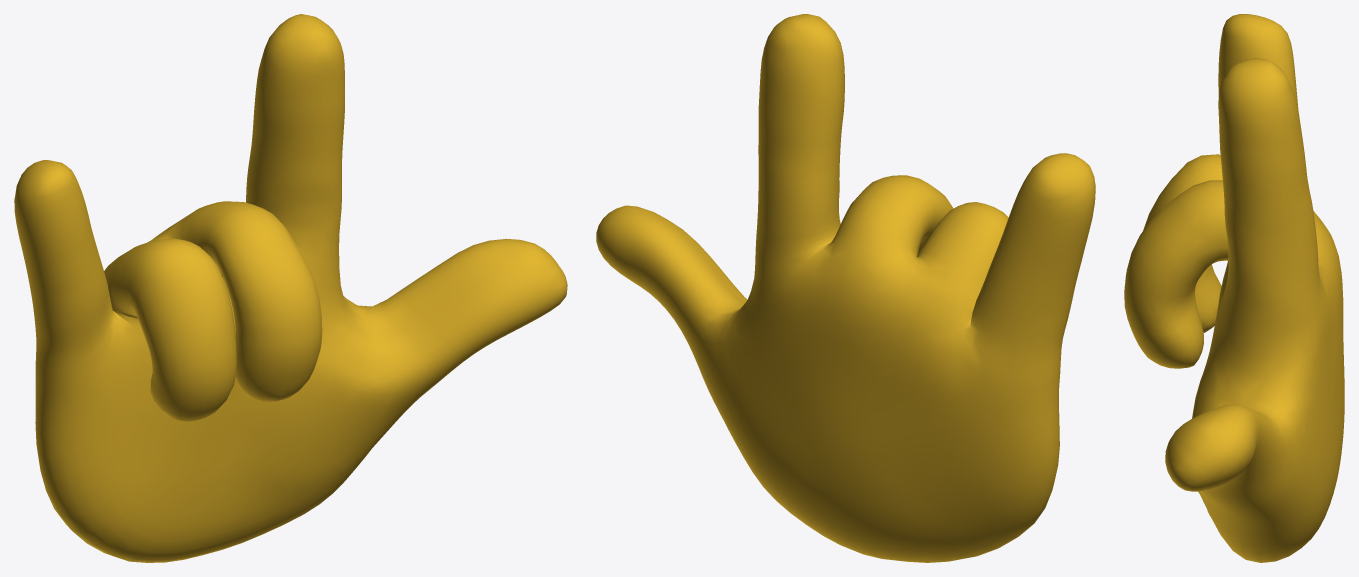
The model's file is rock.glb.
The picture shows the model from 3 angles, left to right: view 1: azimuth 30°, elevation 25°; view 2: azimuth 150°, elevation 25°; view 3: azimuth 270°, elevation 25°; orthographic projection. The views are drawn at different scales.
Visible parts, largest first — view 1: Group54700; view 2: Group54700; view 3: Group54700.
Boxes of the visible parts, x1,y1,x2,y2 form: Group54700: (14, 14, 567, 562); Group54700: (596, 14, 1095, 562); Group54700: (1124, 14, 1344, 562).
Size of the model in its own units: 0.431 by 0.4083 by 0.156.
